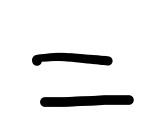eqv: (32, 52, 134, 107)
